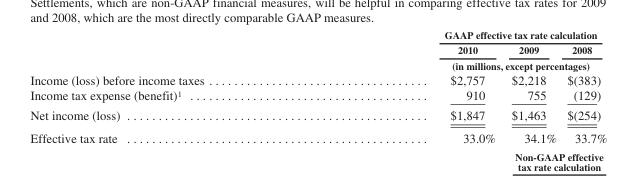table: (29, 28, 606, 144)
table column: (29, 28, 323, 144), (323, 28, 502, 144), (502, 28, 561, 144), (561, 28, 606, 144)
table column header: (29, 28, 606, 71)
table row: (29, 104, 606, 126), (29, 126, 606, 144), (29, 87, 606, 104), (29, 71, 606, 87), (29, 42, 606, 57), (29, 28, 606, 42), (29, 57, 606, 71)
table spanning cell: (323, 28, 606, 42), (323, 57, 606, 71)
